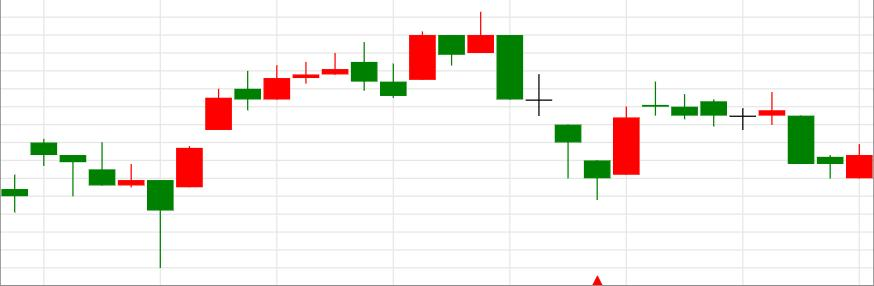hammer_rise: (31, 139, 173, 268)
